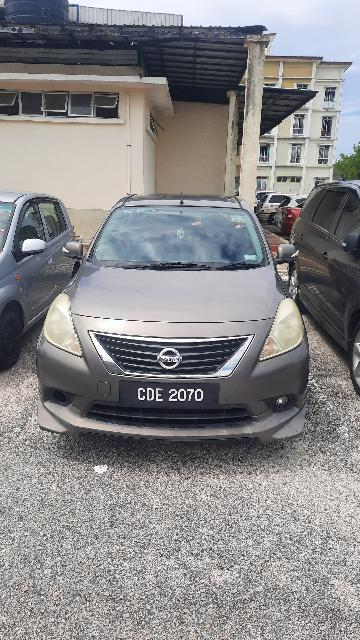License_Plate: (118, 376, 229, 418)
car: (24, 182, 324, 460)
